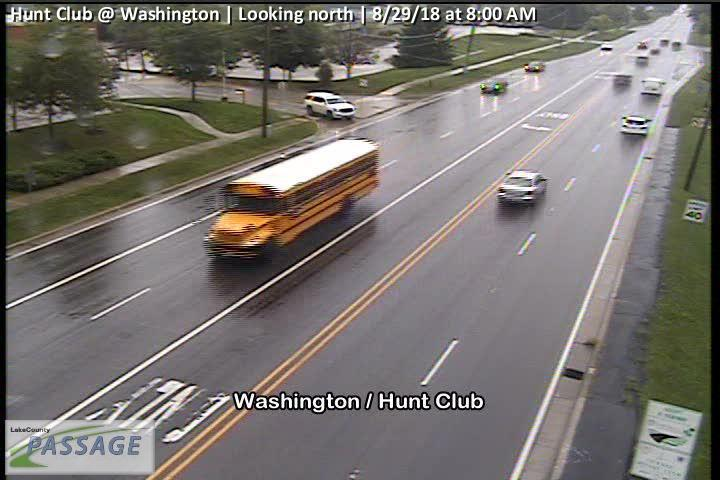SUV: (303, 89, 357, 120)
Sedan: (495, 167, 549, 206), (620, 115, 652, 136), (640, 77, 666, 97)
Truck: (199, 137, 382, 260)
